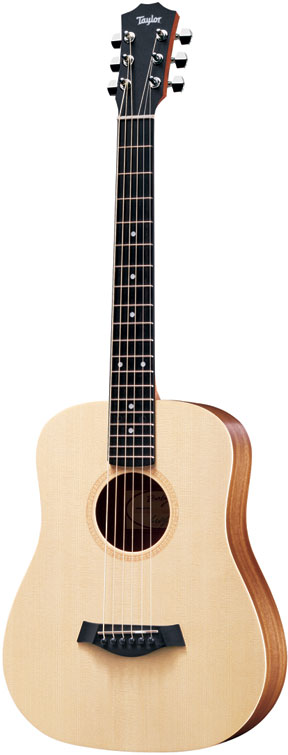guitar: (1, 1, 288, 755)
